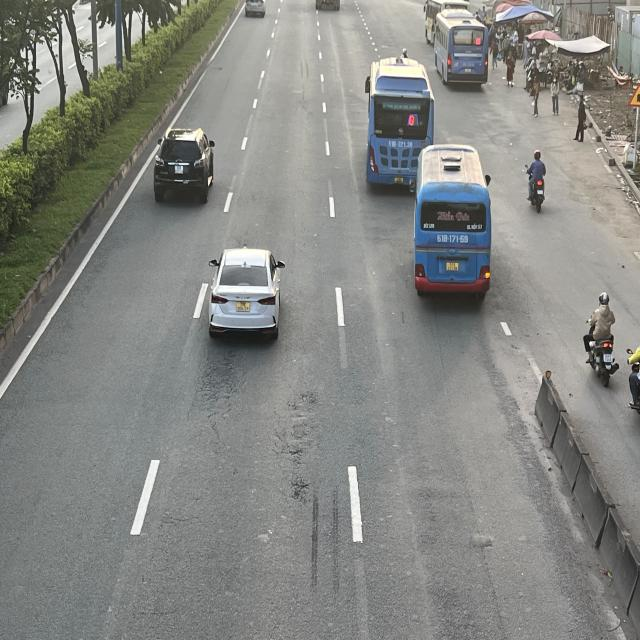car: (206, 249, 283, 340), (155, 128, 217, 203)
coach: (412, 146, 492, 300), (366, 59, 437, 193), (432, 11, 489, 86)
